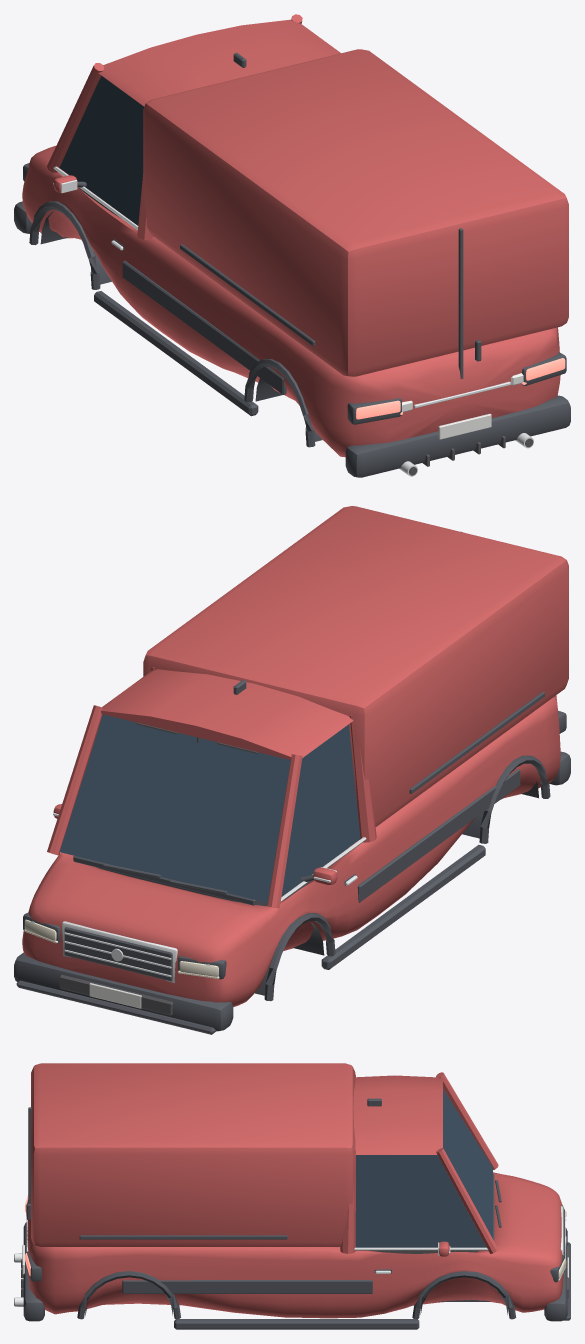
File: Car_DeliveryVan.fbx
The picture shows the model from 3 angles, top to bottom: view 1: azimuth 30°, elevation 25°; view 2: azimuth 150°, elevation 25°; view 3: azimuth 270°, elevation 25°; orthographic projection. The views are drawn at different scales.
Visible parts, largest first — view 1: Car_DeliveryVan, Car_Taillights; view 2: Car_DeliveryVan, Car_Headlights; view 3: Car_DeliveryVan.
Boxes of the visible parts, x1,y1,x2,y2 form: Car_DeliveryVan: [14, 14, 570, 477]; Car_Taillights: [356, 358, 565, 419]; Car_DeliveryVan: [14, 506, 570, 1034]; Car_Headlights: [24, 919, 219, 978]; Car_DeliveryVan: [14, 1063, 570, 1329].
Size of the model in its own units: 2.37 by 1.93 by 5.22.
